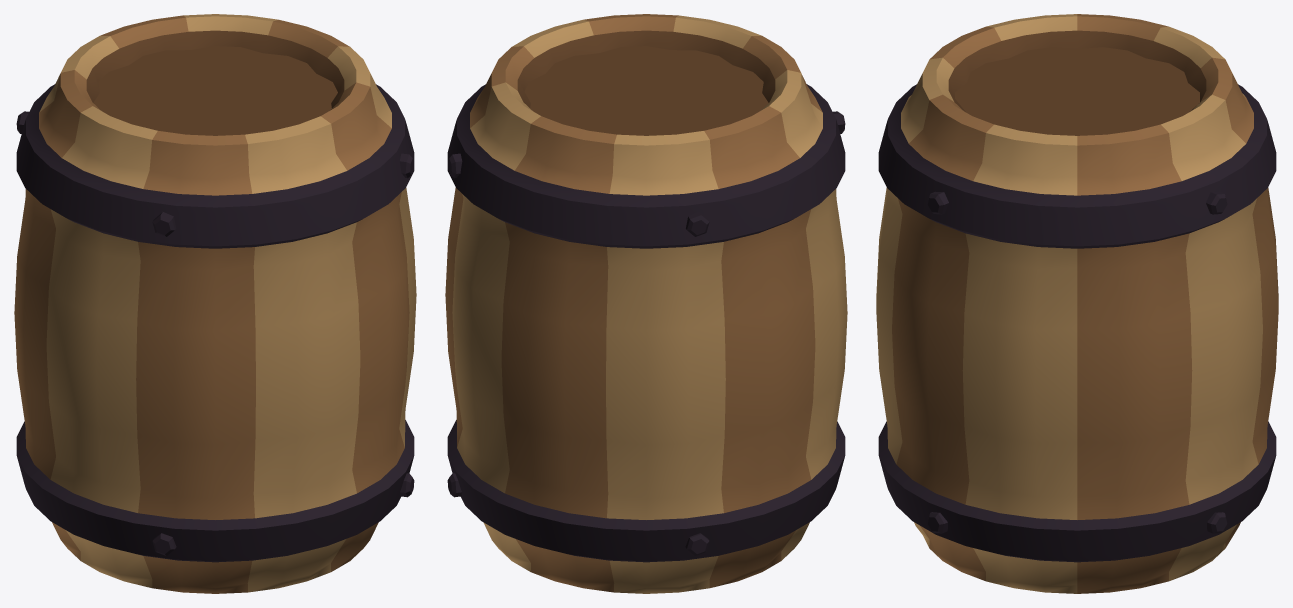
The model's file is Barrel_21.glb.
The picture shows the model from 3 angles, left to right: view 1: azimuth 30°, elevation 25°; view 2: azimuth 150°, elevation 25°; view 3: azimuth 270°, elevation 25°; orthographic projection.
Parts seen in each view (by area): view 1: Barrel_21; view 2: Barrel_21; view 3: Barrel_21.
Boxes of the visible parts, box(x1,y1,x2,y2) form: Barrel_21: box(14, 14, 416, 593); Barrel_21: box(445, 14, 847, 593); Barrel_21: box(876, 14, 1278, 593).
Size of the model in its own units: 1.98 by 2.49 by 1.99.
